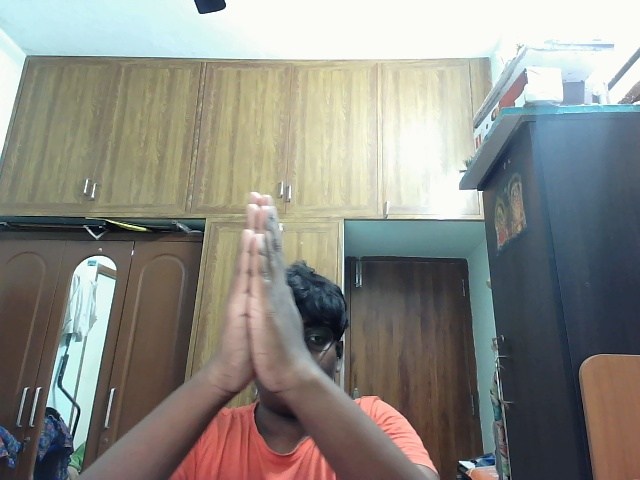Sign: (213, 194, 314, 421)
